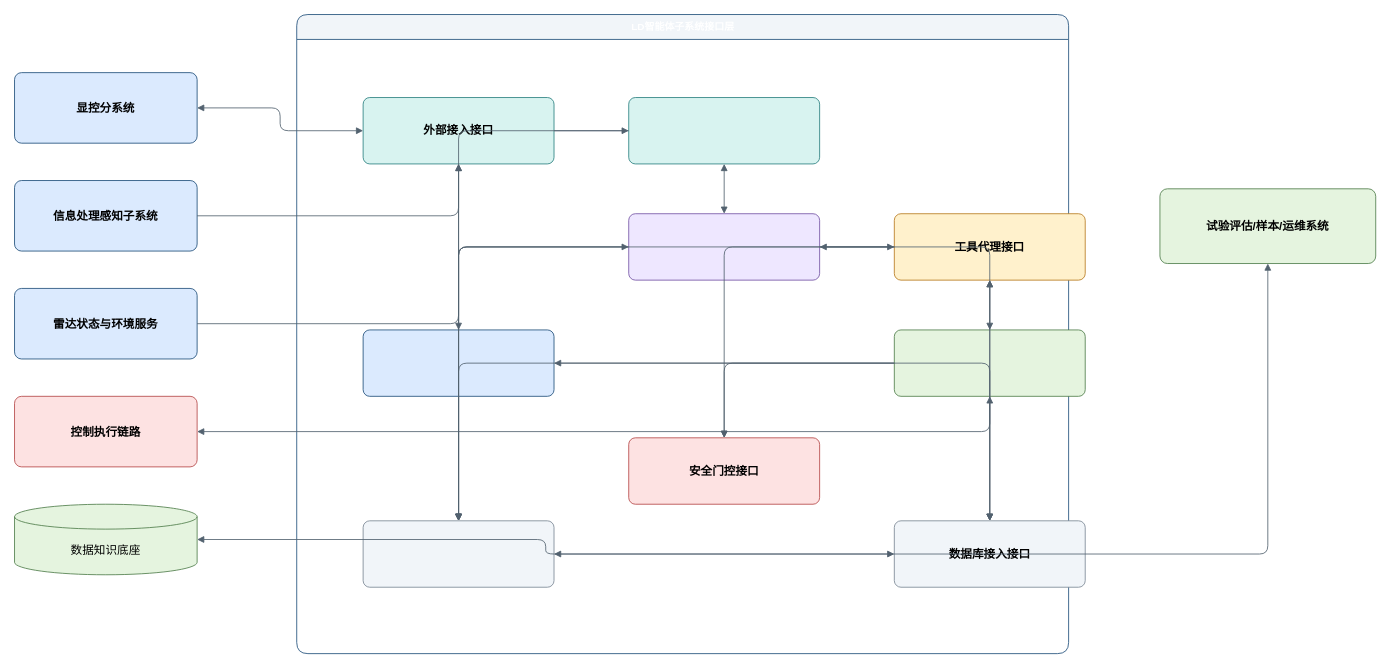
This 1390x668 diagram has some shape labels left out. The shapes that lost their labels are listed below. From the top down, each one's box as (x1, y1, x2, y2) in pixels, then its label:
(628, 97, 820, 164): 任务管理接口
(628, 213, 820, 280): 认知核心接口
(362, 329, 554, 396): 记忆读写接口
(893, 329, 1085, 396): 工作流代理接口
(362, 520, 554, 587): 追溯记录接口
